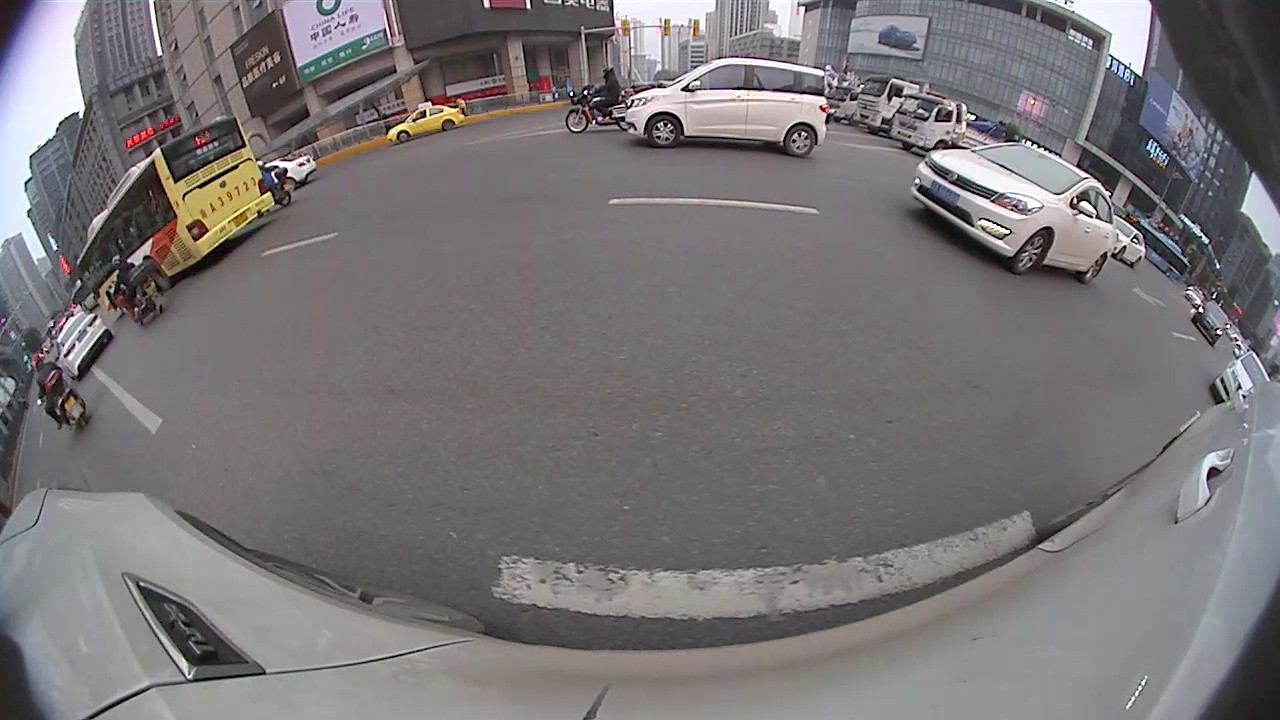bus: (74, 112, 271, 310)
car: (909, 141, 1119, 289), (627, 54, 830, 160), (386, 97, 464, 152), (1209, 351, 1274, 414), (50, 310, 116, 370), (1103, 222, 1150, 264), (1191, 300, 1231, 345)
front: (1011, 227, 1049, 277), (646, 114, 682, 149), (564, 107, 590, 135), (395, 130, 411, 143)
rear: (783, 124, 818, 159), (143, 258, 174, 295), (1075, 252, 1106, 286)
rider: (563, 67, 651, 134), (30, 359, 89, 436), (108, 251, 160, 333)
truck: (893, 84, 1019, 169)
